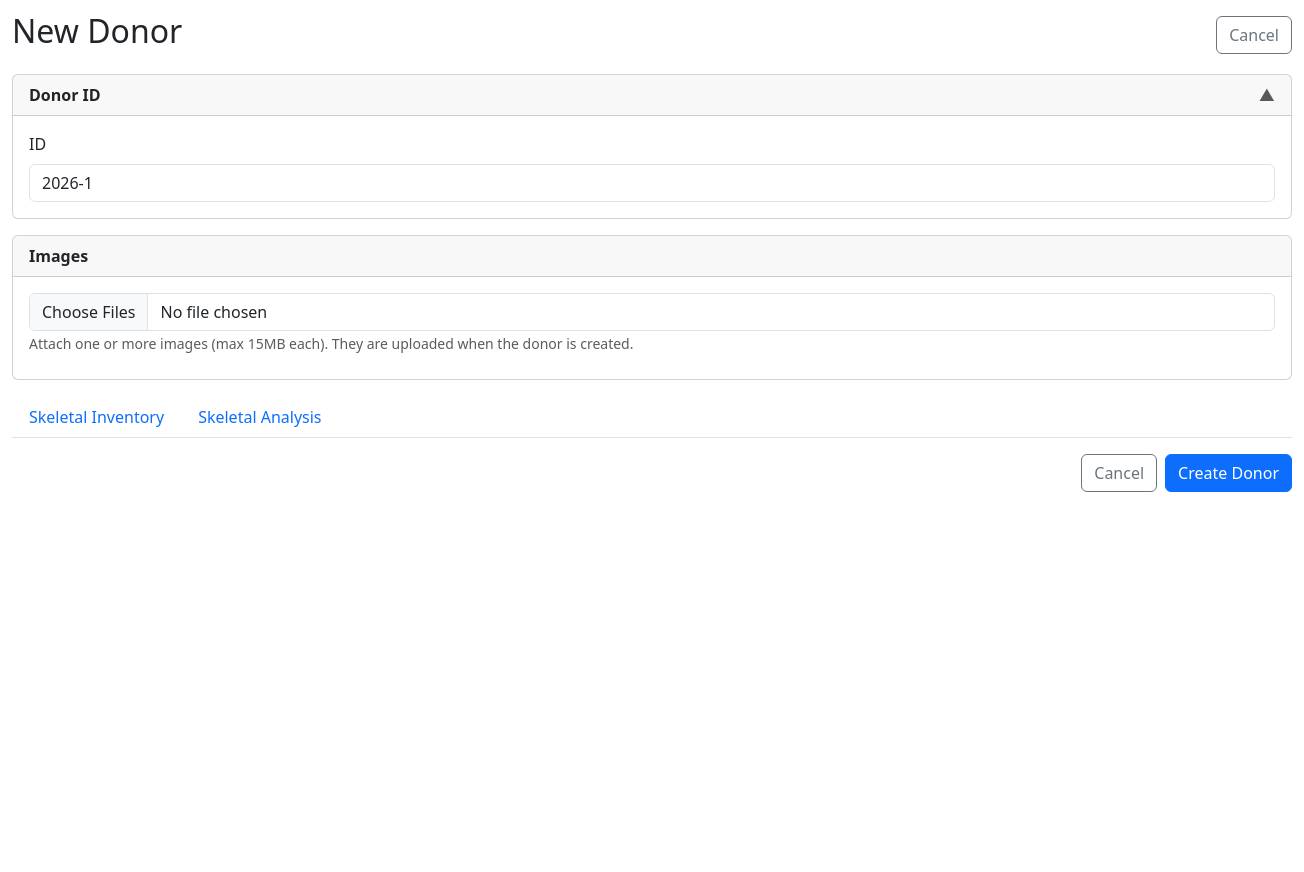
Test: ModifyDonor Dentition section › renders both an NAPD dropdown and a 1-5 Wear Score dropdown for every tooth
Click the tab "Skeletal Inventory" at (97, 417), box x1=12 y1=396 x2=181 y2=438
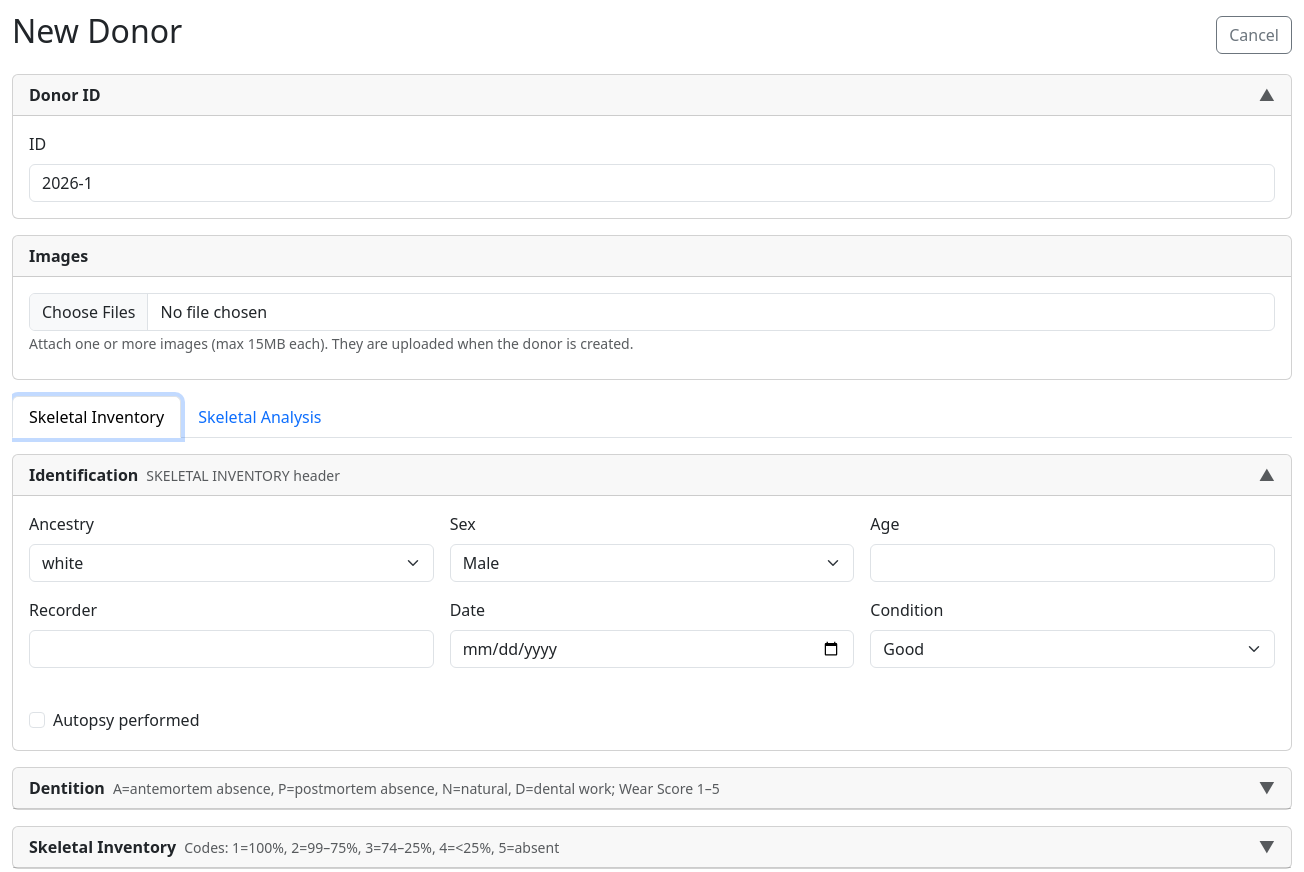
Click the text "Dentition" at (67, 788), box x1=29 y1=777 x2=105 y2=799
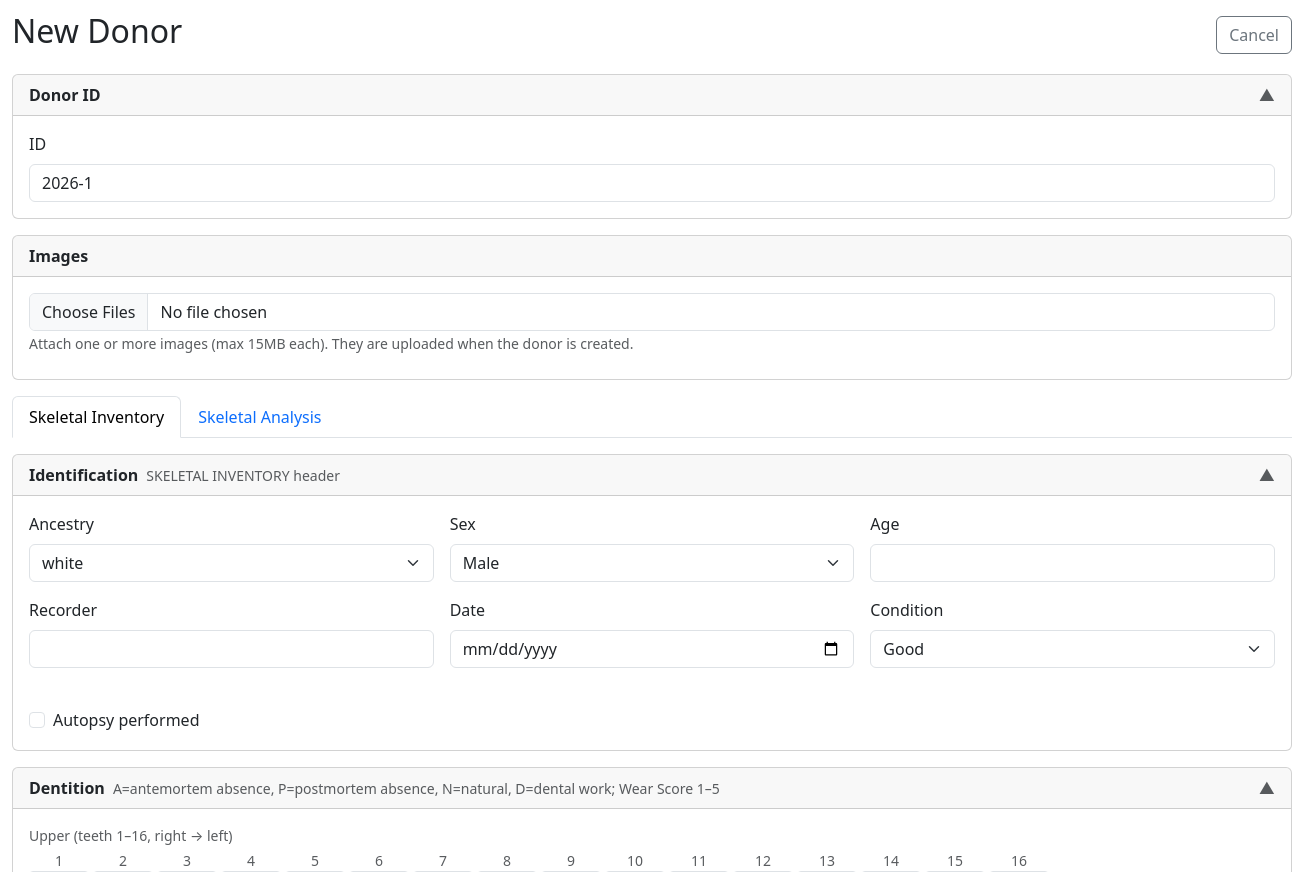
Expected: the number of dropdowns titled "Wear Score" is 32
